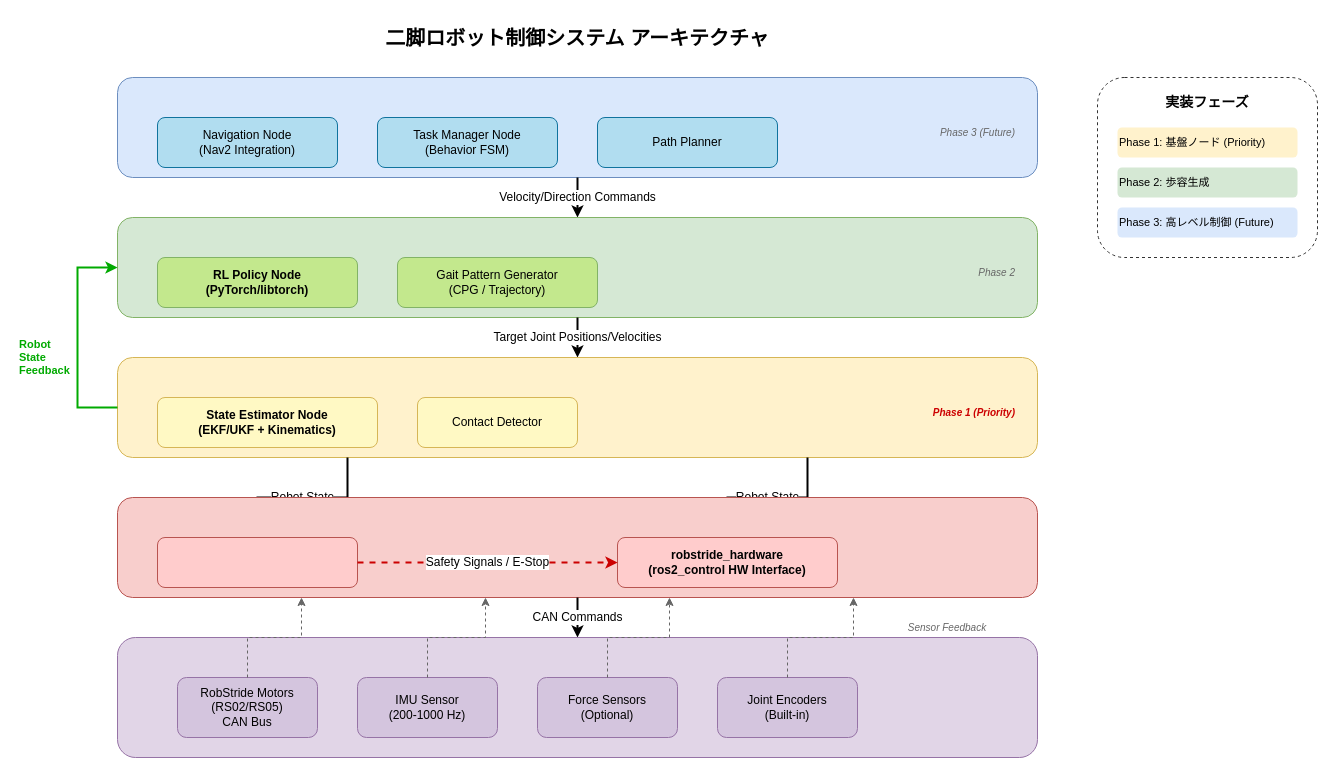
Image size: 1335x775. Some labels were removed from this diagram. Each missing label, with the box of its shape:
Gait Generation Layer (50-100 Hz): (116, 216, 1038, 318)
Hardware Layer: (116, 636, 1038, 758)
High-Level Control Layer (10-50 Hz): (116, 76, 1038, 178)
Real-Time Control & Safety Layer (200 Hz, SCHED_FIFO): (116, 496, 1038, 598)
Safety Monitor Node (Fall Detection, Limits): (156, 536, 358, 588)
State Estimation Layer (200 Hz): (116, 356, 1038, 458)
